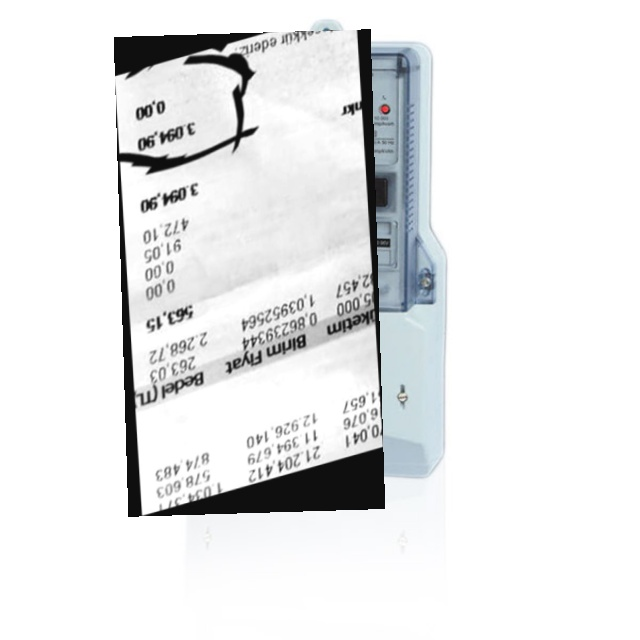electricity-bill: (113, 28, 384, 516)
